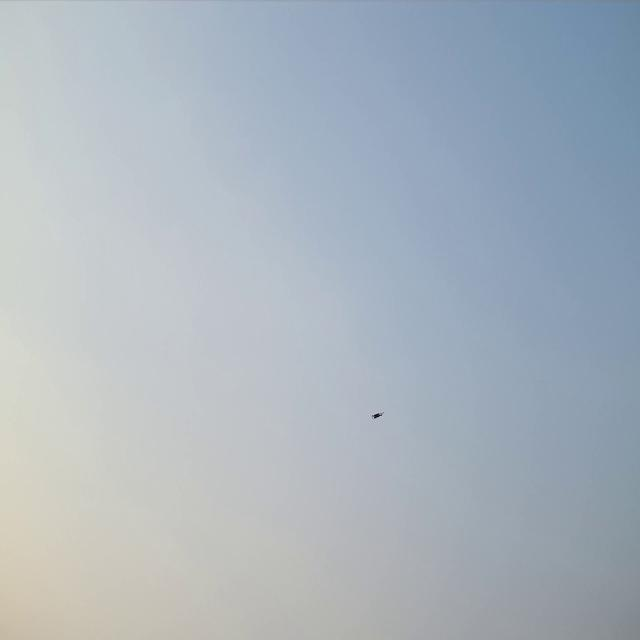UAV: (371, 411, 386, 422)
